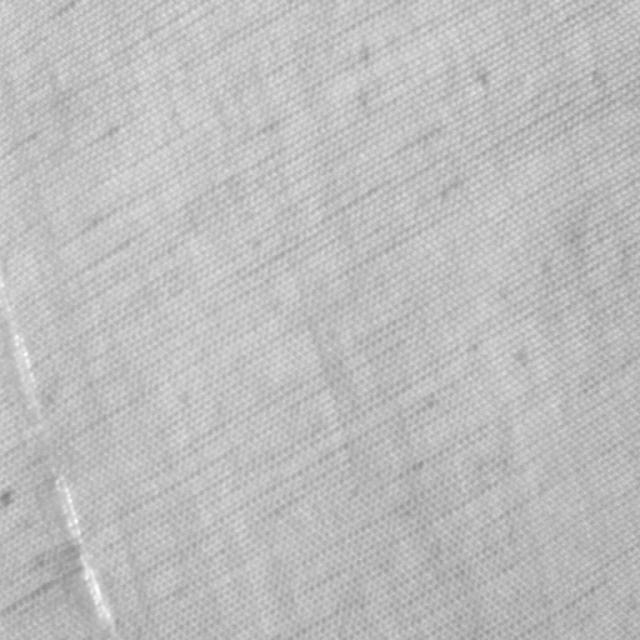thread error: (0, 256, 127, 635)
